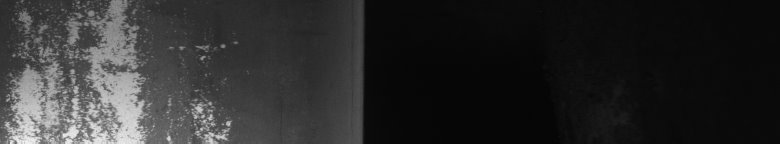kb: (5, 4, 240, 136)
